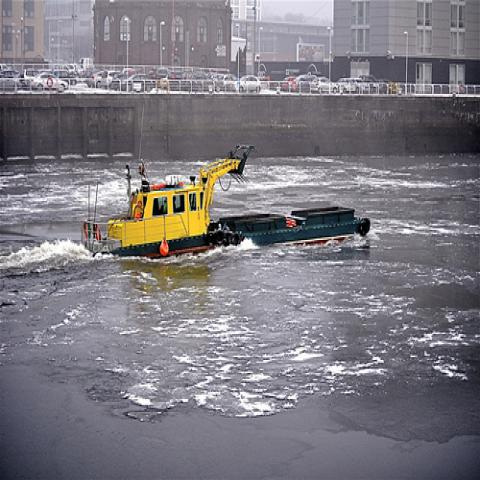car: (6, 62, 401, 98), (32, 74, 68, 89), (310, 76, 339, 93), (240, 75, 262, 95), (85, 69, 105, 89), (128, 73, 146, 94), (16, 70, 35, 88), (0, 70, 17, 88), (100, 71, 120, 86), (112, 73, 127, 91), (281, 76, 297, 90), (153, 67, 171, 79), (63, 65, 75, 74), (182, 70, 194, 79)
truck: (78, 58, 94, 74)
